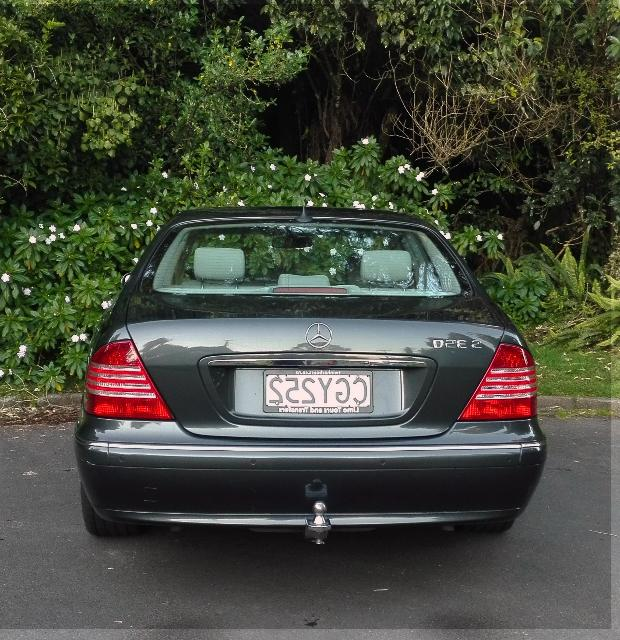Rego: (262, 370, 372, 412)
